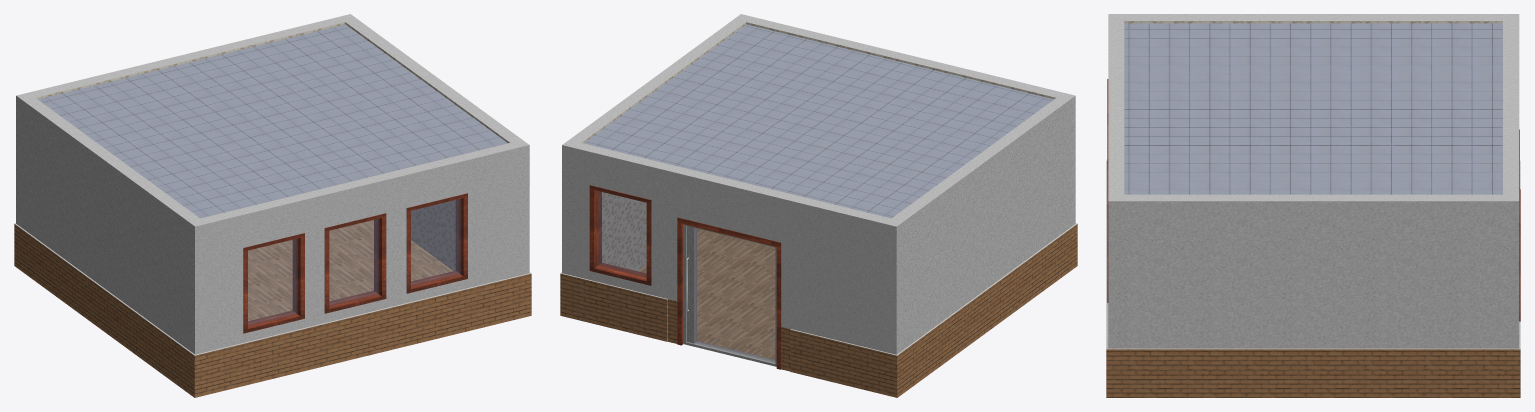
Rendered from store.glb.
The picture shows the model from 3 angles, left to right: view 1: azimuth 30°, elevation 25°; view 2: azimuth 150°, elevation 25°; view 3: azimuth 270°, elevation 25°; orthographic projection. The views are drawn at different scales.
Visible parts, largest first — view 1: Store, Roof, Glass, Floor, Window.003, Window.002, Window.001; view 2: Store, Roof, Glass, Floor, AutomaticDoor, Window, BaseDoor; view 3: Store, Roof.
Boxes of the visible parts, x1=… form: Store: x1=14, y1=14, x2=531, y2=397; Roof: x1=38, y1=24, x2=507, y2=218; Glass: x1=248, y1=199, x2=460, y2=326; Floor: x1=248, y1=220, x2=452, y2=320; Window.003: x1=324, y1=213, x2=386, y2=313; Window.002: x1=243, y1=233, x2=304, y2=333; Window.001: x1=406, y1=193, x2=467, y2=293; Store: x1=560, y1=14, x2=1077, y2=397; Roof: x1=584, y1=24, x2=1053, y2=218; Glass: x1=597, y1=191, x2=775, y2=362; Floor: x1=638, y1=228, x2=775, y2=359; AutomaticDoor: x1=683, y1=224, x2=776, y2=366; Window: x1=589, y1=185, x2=651, y2=285; BaseDoor: x1=677, y1=217, x2=781, y2=369; Store: x1=1106, y1=14, x2=1520, y2=397; Roof: x1=1124, y1=23, x2=1502, y2=194.
Size of the model in its own units: 826 by 400 by 766.
Materials: 12 (11 with a texture image).
